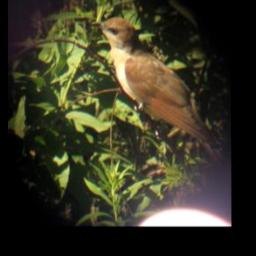Cuckoo: (90, 16, 227, 169)
